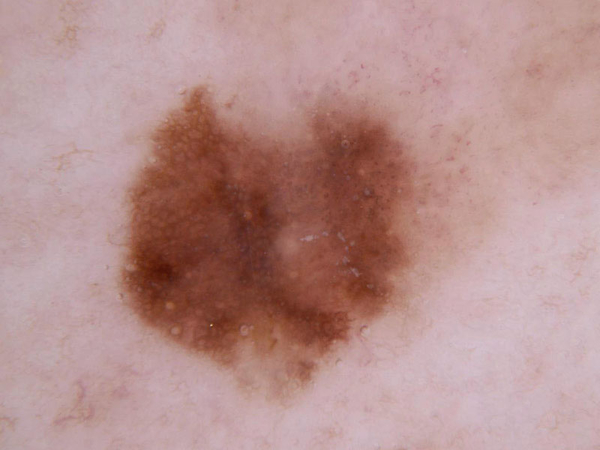Detected Lesion: (123, 86, 418, 398)
